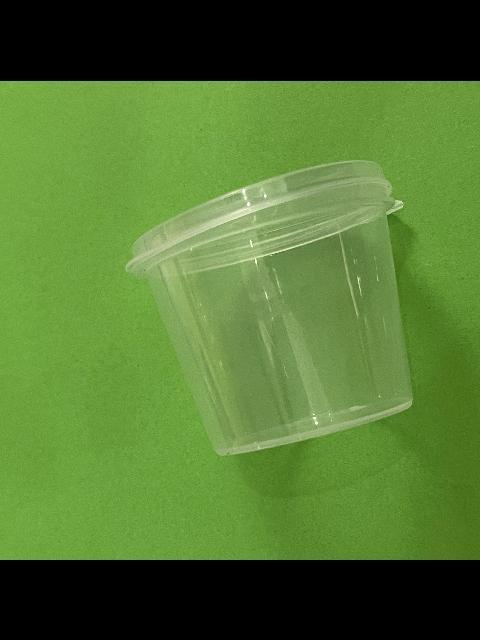plasticcontainer: (121, 157, 417, 456)
